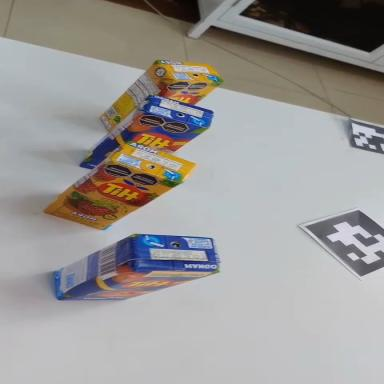HIT-MANGO: (45, 213, 223, 318), (69, 83, 219, 170)
HIT-MORA: (35, 117, 200, 251), (90, 42, 227, 133)
cara_F: (36, 135, 182, 252), (54, 246, 222, 320), (71, 100, 213, 172), (159, 79, 222, 107)
